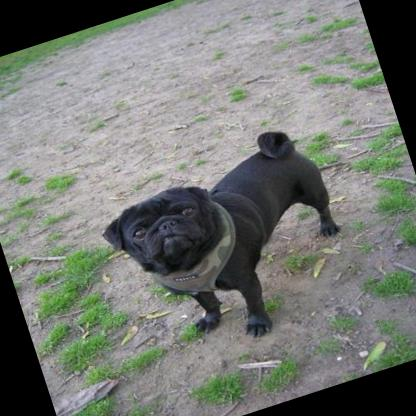pug: (83, 115, 369, 376)
